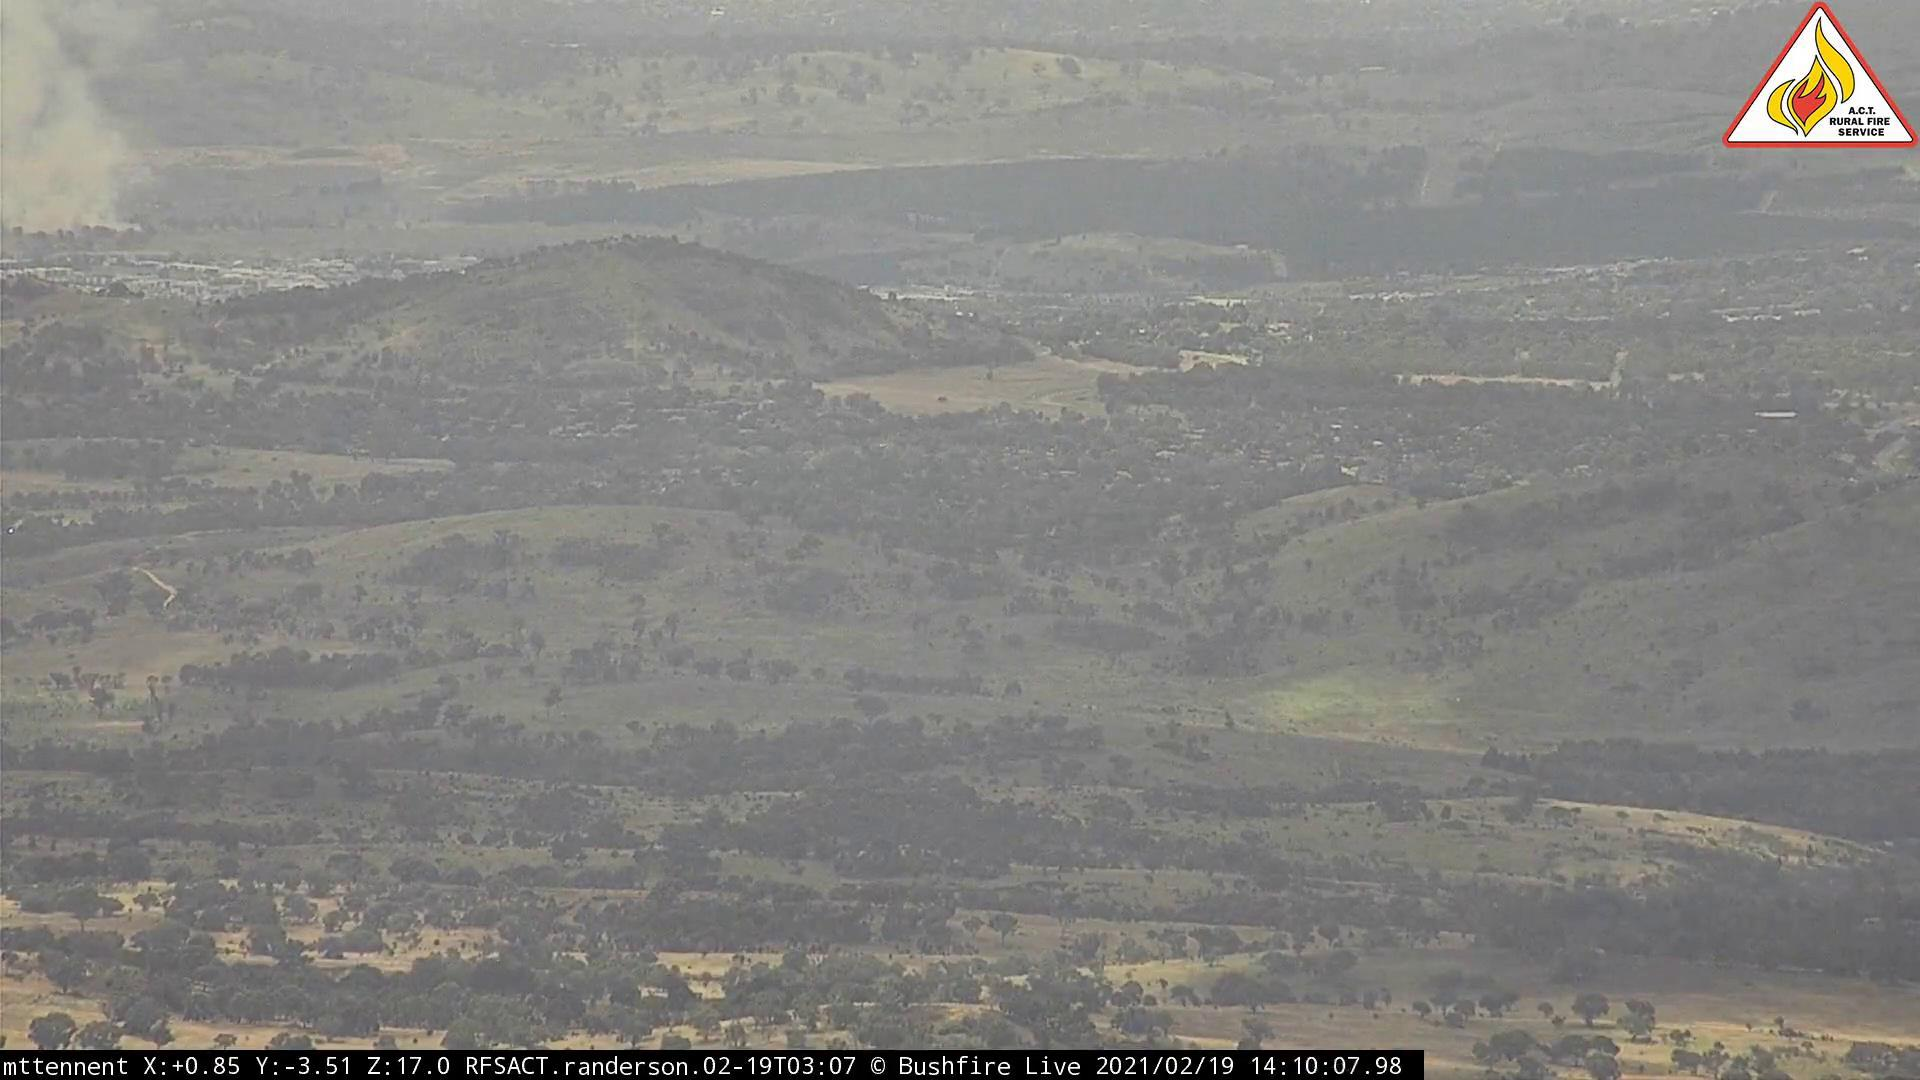Smoke: (3, 3, 165, 247)
